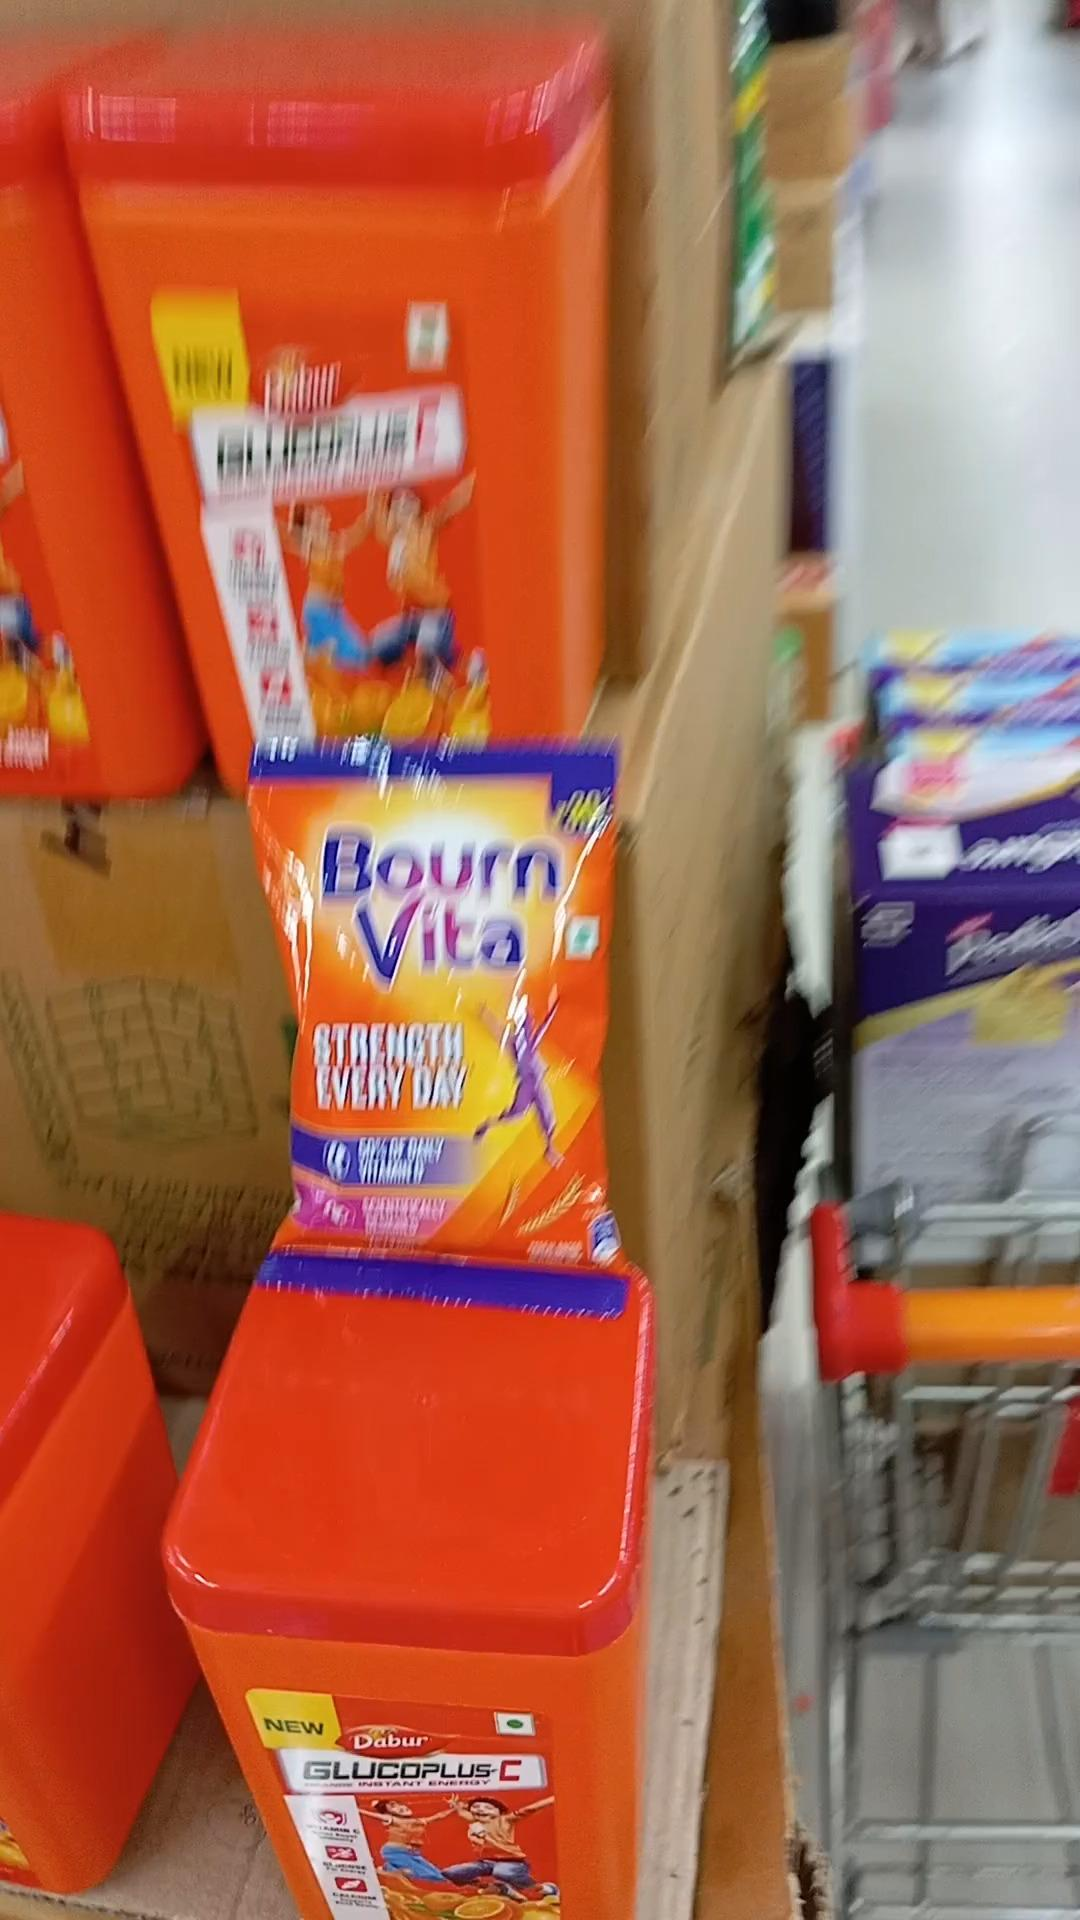BOURN_VITA_75_G_POUCH: (262, 744, 622, 1305)
